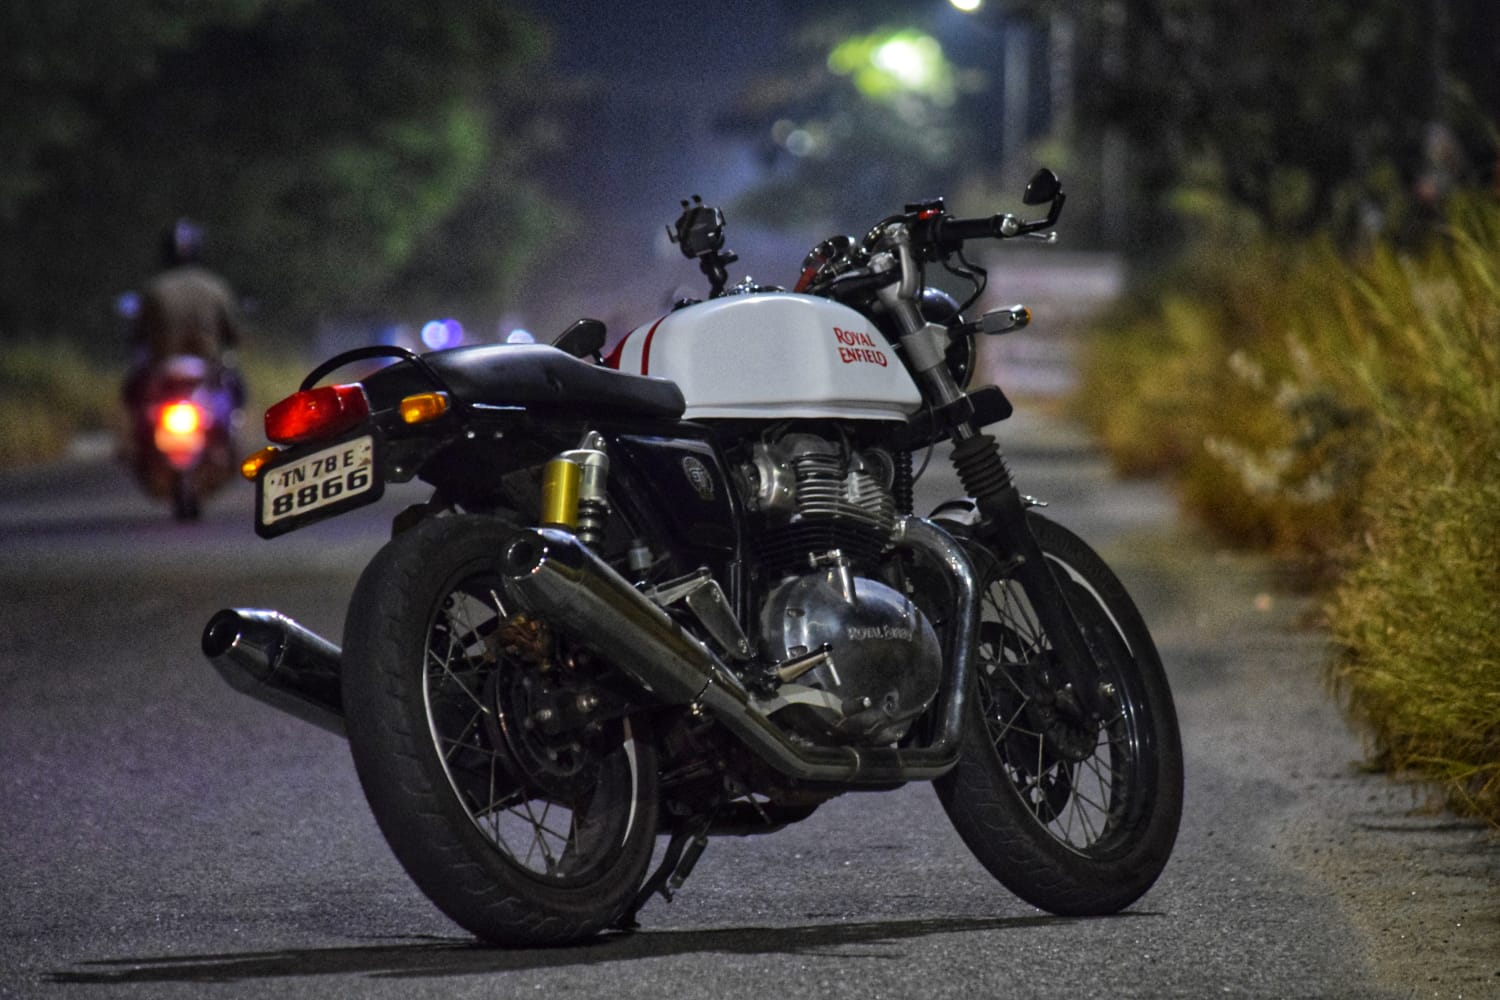bike: (201, 148, 1198, 953)
numberplate: (239, 429, 390, 533)
